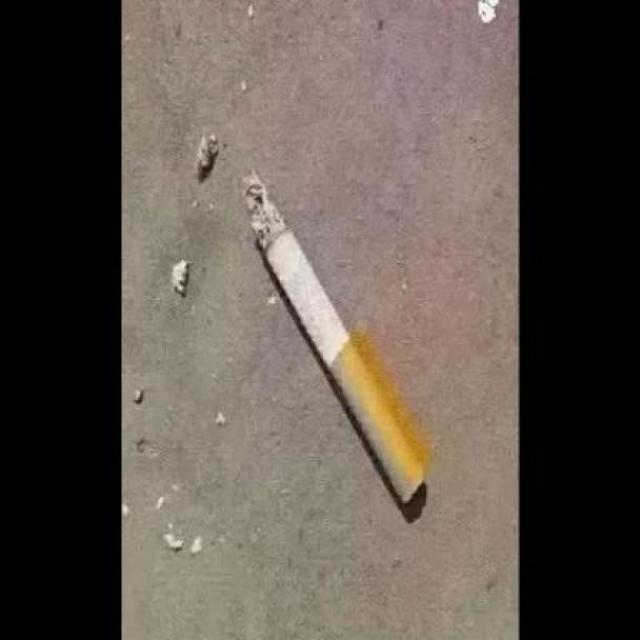rokok: (240, 168, 432, 514)
